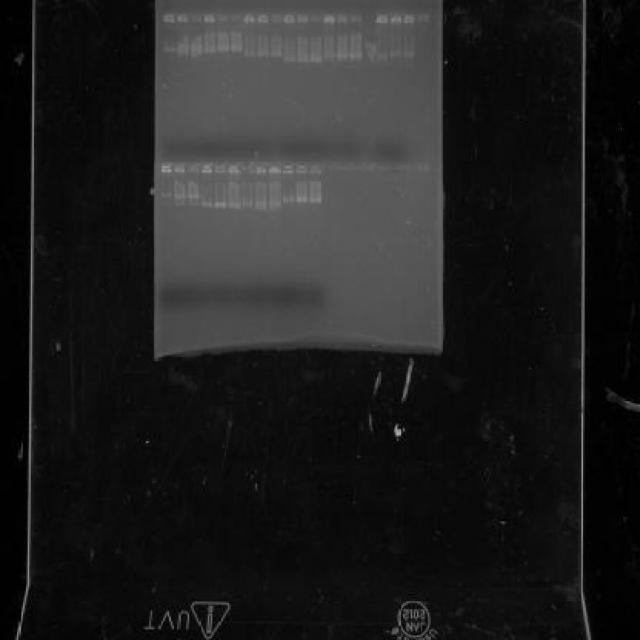B: (190, 49, 202, 60), (240, 200, 254, 209), (388, 50, 402, 59), (322, 51, 336, 60), (402, 50, 415, 59), (162, 45, 176, 53), (296, 56, 310, 64), (282, 56, 296, 64), (215, 202, 228, 210), (282, 196, 295, 204), (177, 49, 190, 57), (336, 52, 349, 60), (228, 202, 240, 210), (204, 46, 216, 54), (310, 56, 322, 64), (256, 52, 270, 58), (243, 51, 257, 57), (216, 46, 230, 52), (172, 201, 185, 207), (187, 193, 200, 199), (187, 201, 200, 207), (200, 201, 213, 207), (309, 198, 322, 204), (295, 197, 308, 203), (255, 200, 268, 206), (268, 201, 281, 207), (190, 43, 203, 49), (177, 43, 190, 49), (376, 53, 389, 59), (160, 192, 172, 198), (174, 194, 186, 200), (350, 53, 362, 59), (270, 51, 282, 57), (230, 46, 244, 51), (255, 205, 268, 210), (268, 206, 281, 211)
L: (156, 157, 432, 177), (160, 8, 432, 27)
Pc: (172, 160, 186, 174), (186, 160, 200, 174), (322, 160, 336, 174), (362, 160, 376, 174), (254, 162, 268, 176), (240, 162, 254, 176), (162, 11, 176, 24), (402, 12, 416, 25), (388, 12, 402, 25), (374, 12, 388, 25), (322, 12, 336, 25), (308, 12, 322, 25), (199, 160, 213, 173), (280, 161, 294, 174), (294, 162, 308, 175), (308, 162, 321, 176), (336, 160, 350, 173), (389, 160, 403, 173), (226, 161, 240, 174), (336, 11, 349, 24), (159, 161, 172, 174), (376, 160, 389, 173), (416, 160, 430, 172), (402, 160, 416, 172), (268, 162, 280, 176), (214, 160, 226, 173), (350, 160, 362, 173), (416, 13, 430, 24), (282, 13, 296, 24), (348, 13, 362, 24), (229, 13, 243, 24), (216, 13, 230, 24), (177, 13, 190, 24), (296, 13, 309, 24), (269, 12, 282, 23), (242, 14, 256, 24), (256, 14, 270, 23), (190, 14, 202, 24), (204, 14, 216, 24)
